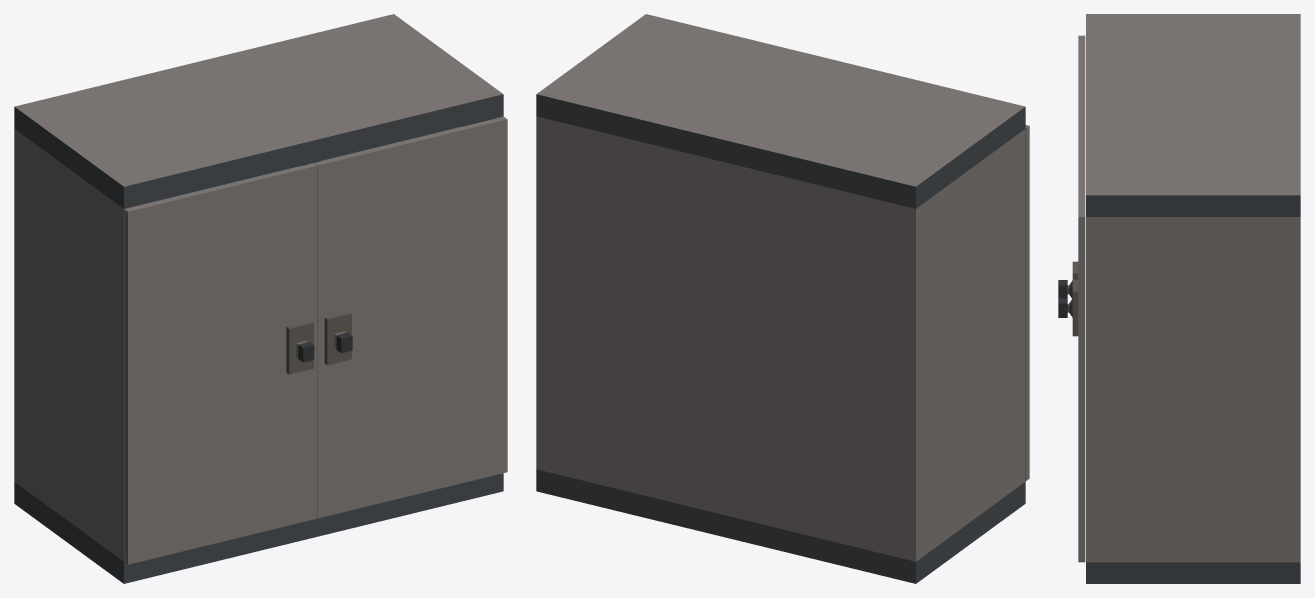
The model's file is dryingcabinetlarge_01_A.gltf.
3 views of the same model, side by side, from view 1: azimuth 30°, elevation 25°; view 2: azimuth 150°, elevation 25°; view 3: azimuth 270°, elevation 25° (orthographic). The views are drawn at different scales.
Visible parts, largest first — view 1: dryingcabinetlarge_01_A, Doordryingcabinetlargeleft_01_A, Doordryingcabinetlargeright_01_A; view 2: dryingcabinetlarge_01_A, Doordryingcabinetlargeleft_01_A; view 3: dryingcabinetlarge_01_A, Doordryingcabinetlargeright_01_A, Doordryingcabinetlargeleft_01_A.
Part boxes in pixels (x1,y1,x2,y2): dryingcabinetlarge_01_A: [14, 14, 503, 583]; Doordryingcabinetlargeleft_01_A: [124, 163, 317, 564]; Doordryingcabinetlargeright_01_A: [314, 116, 507, 518]; dryingcabinetlarge_01_A: [536, 14, 1025, 583]; Doordryingcabinetlargeleft_01_A: [1025, 125, 1029, 480]; dryingcabinetlarge_01_A: [1086, 14, 1300, 583]; Doordryingcabinetlargeright_01_A: [1058, 126, 1085, 562]; Doordryingcabinetlargeleft_01_A: [1058, 35, 1085, 298].
Bounding box in the file's own units: 2 × 2 × 1.13.
Materials: 1 (1 with a texture image).
